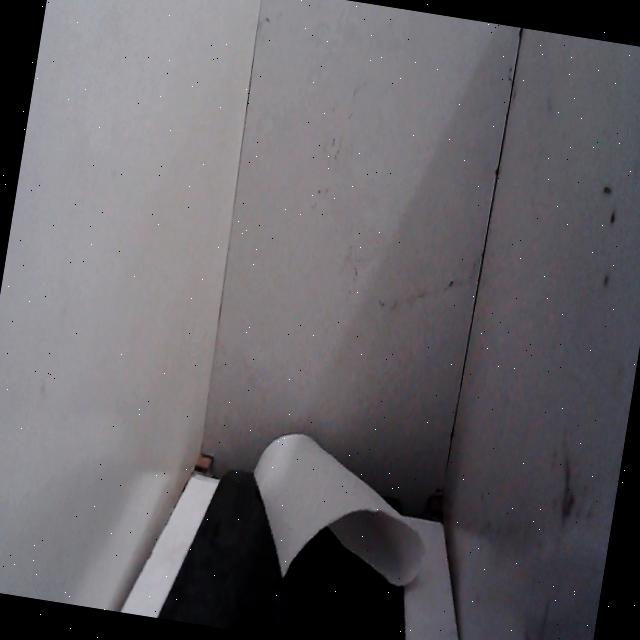papel: (234, 412, 446, 611)
